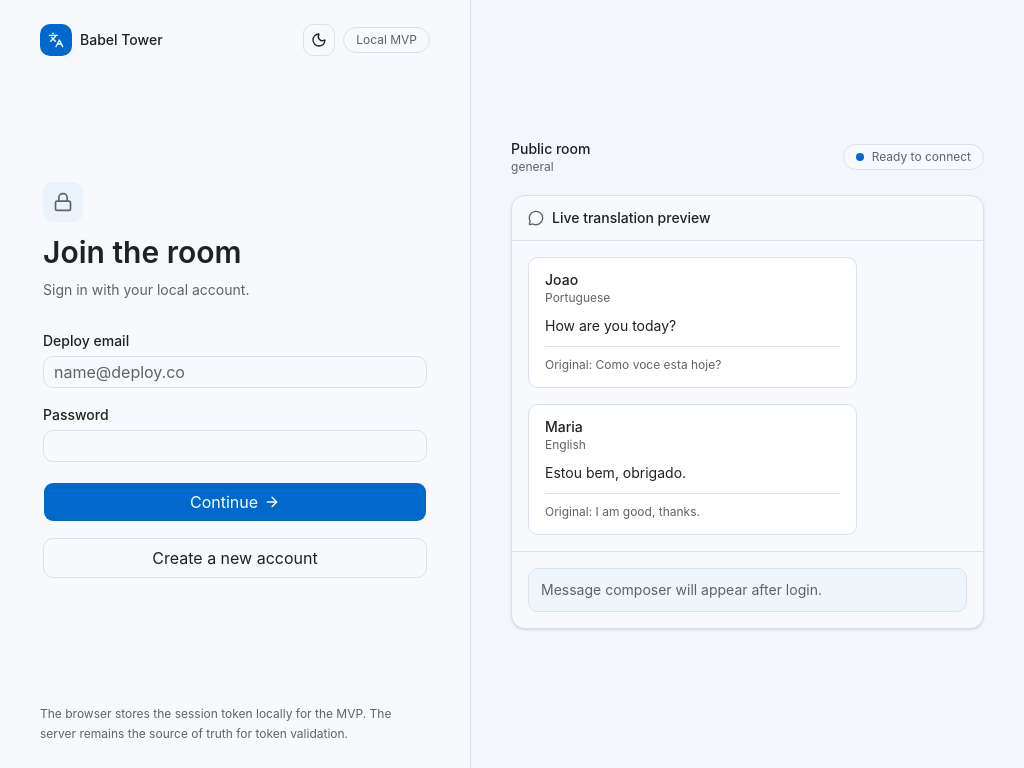
Test: App › shows the create account form
Click the button "Create a new account".
click(235, 558)  # box [43, 538, 427, 578]
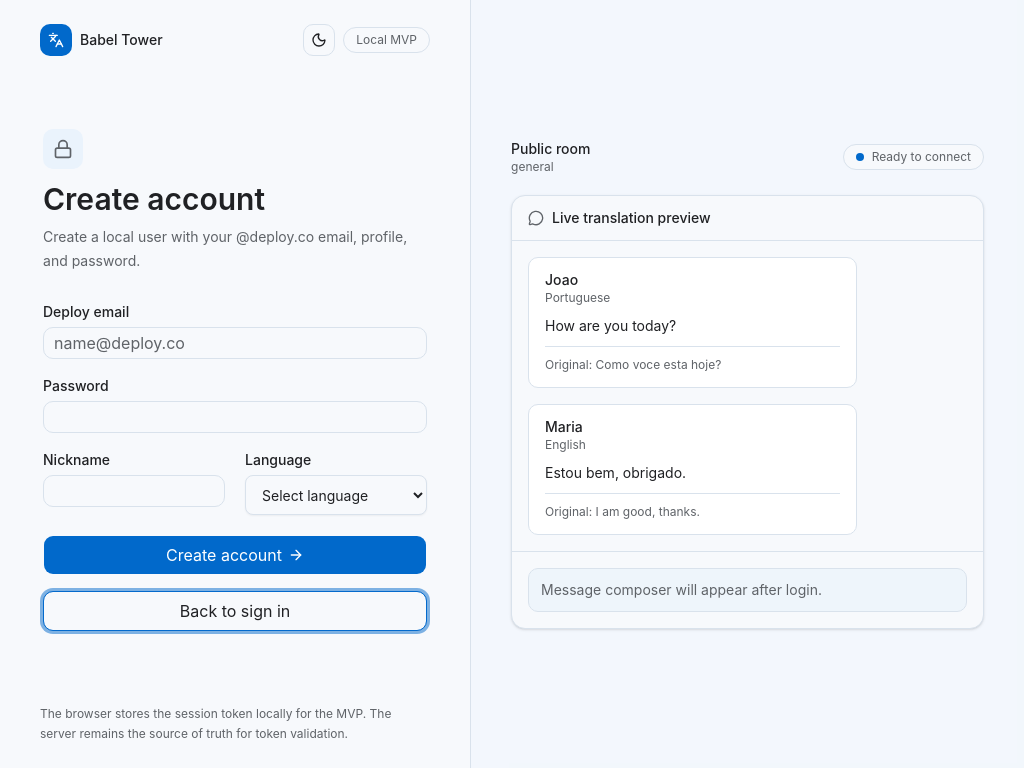
Expected: the heading "Create account" is shown, [43, 181, 265, 217]
Expected: the field labelled "Nickname" is shown, [43, 475, 225, 507]
Expected: the dropdown labelled "Language" is shown, [245, 475, 427, 515]
